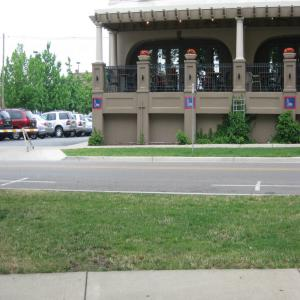Vehicle-registration-plate: (33, 123, 36, 128)
